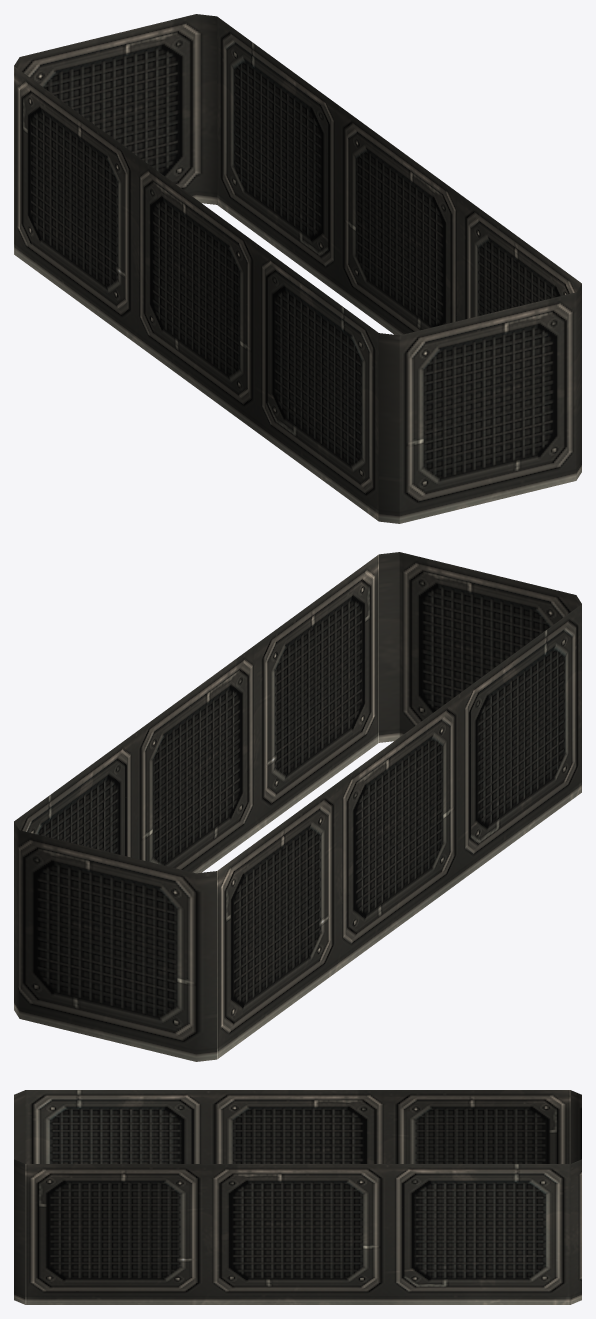
Rendered from mprw_glass_plantbox_solid.FBX.
The picture shows the model from 3 angles, top to bottom: view 1: azimuth 30°, elevation 25°; view 2: azimuth 150°, elevation 25°; view 3: azimuth 270°, elevation 25°; orthographic projection. The views are drawn at different scales.
Visible parts, largest first — view 1: mprw_glass_plantbox_solid; view 2: mprw_glass_plantbox_solid; view 3: mprw_glass_plantbox_solid.
Boxes of the visible parts, <box> form: mprw_glass_plantbox_solid: <box>14,14,581,523</box>; mprw_glass_plantbox_solid: <box>14,552,581,1061</box>; mprw_glass_plantbox_solid: <box>14,1090,581,1304</box>.
Bounding box in the file's own units: 188 × 167 × 611.
Materials: 1 (1 with a texture image).
